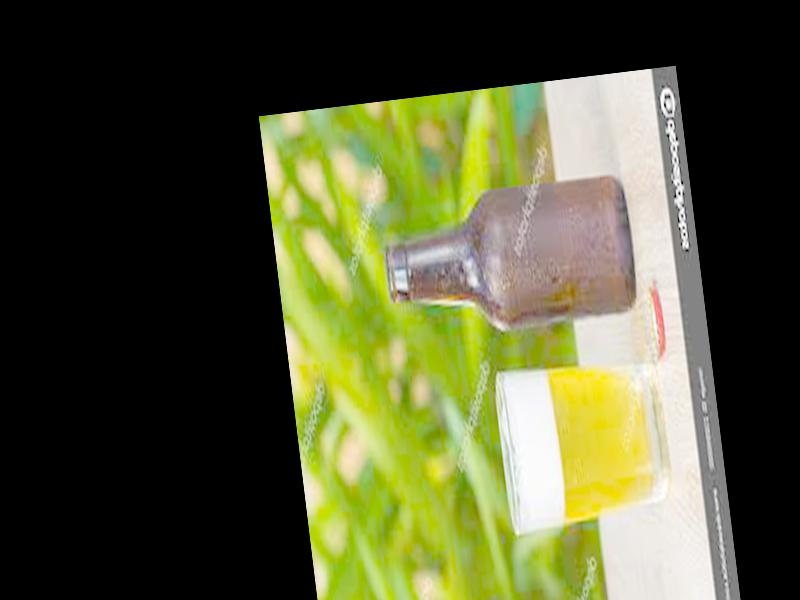Beer: (380, 179, 641, 340)
